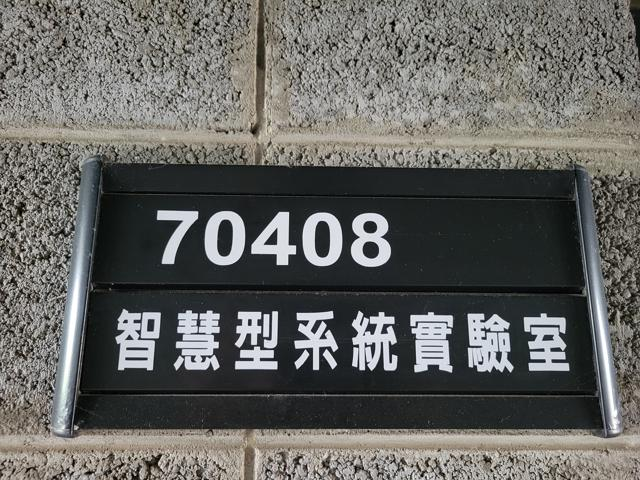doorplate: (41, 139, 630, 448)
